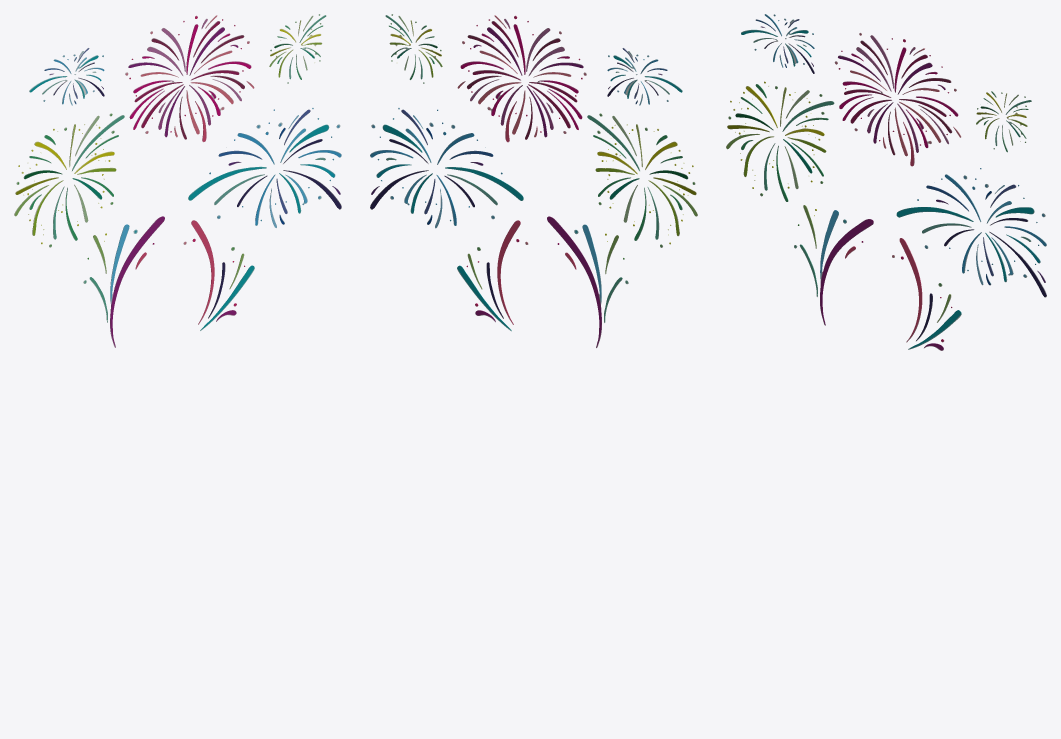
File: NPDfirework.gltf
The picture shows the model from 3 angles, left to right: view 1: azimuth 30°, elevation 25°; view 2: azimuth 150°, elevation 25°; view 3: azimuth 330°, elevation 25°; orthographic projection. The views are drawn at different scales.
Visible parts, largest first — view 1: fw; view 2: fw; view 3: fw.
Part boxes in pixels (<box>): fw: <box>14,14,341,347</box>; fw: <box>370,14,697,347</box>; fw: <box>726,14,1046,350</box>.
Size of the model in its own units: 1.01 by 2.06 by 0.0162.
1 material, 1 textured.
